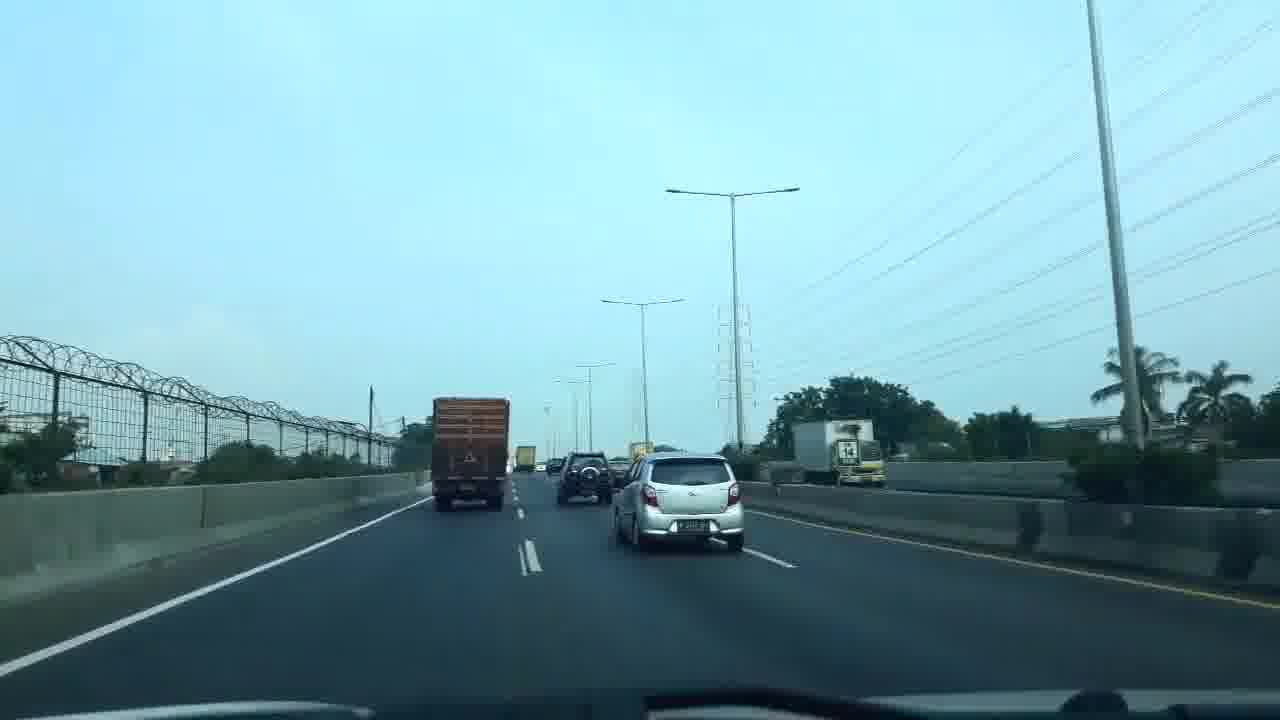plate_positive: (677, 520, 710, 533)
